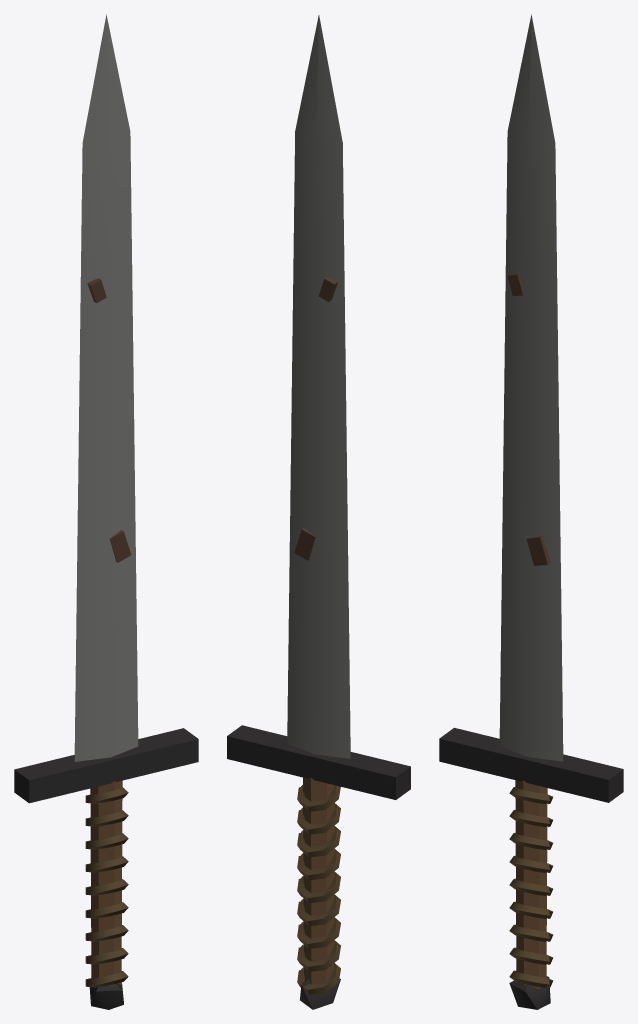
The model's file is sword.glb.
The picture shows the model from 3 angles, left to right: view 1: azimuth 30°, elevation 25°; view 2: azimuth 150°, elevation 25°; view 3: azimuth 330°, elevation 25°; orthographic projection.
Visible parts, largest first — view 1: sword; view 2: sword; view 3: sword.
Part boxes in pixels (x1,y1,x2,y2): sword: (14, 14, 198, 1009); sword: (227, 15, 410, 1009); sword: (439, 14, 623, 1009).
Size of the model in its own units: 0.17 by 0.9511 by 0.0397.
